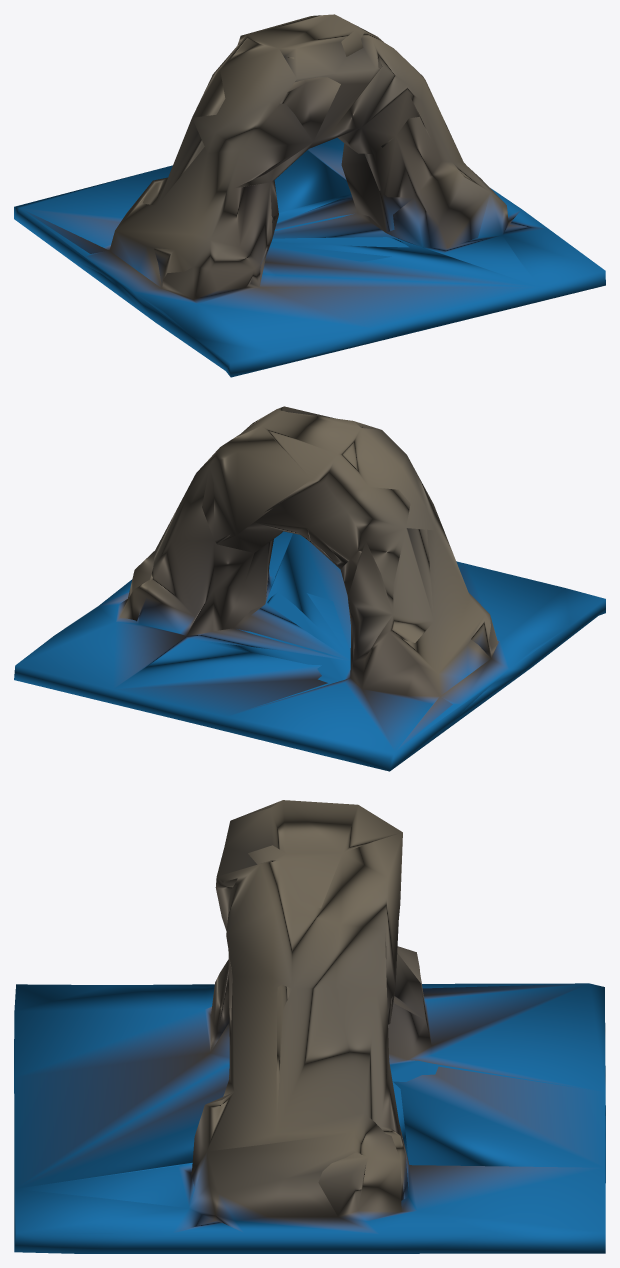
File: gen3d-sea-arch-lod1.glb
The picture shows the model from 3 angles, top to bottom: view 1: azimuth 30°, elevation 25°; view 2: azimuth 150°, elevation 25°; view 3: azimuth 270°, elevation 25°; orthographic projection. The views are drawn at different scales.
Visible parts, largest first — view 1: part_0; view 2: part_0; view 3: part_0.
Part boxes in pixels (x1=…): part_0: x1=14, y1=14, x2=605, y2=377; part_0: x1=14, y1=406, x2=605, y2=771; part_0: x1=14, y1=800, x2=605, y2=1253.
Bounding box in the file's own units: 1.75 × 0.9971 × 1.75.
